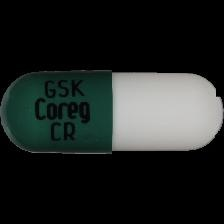68151-5048: (0, 0, 224, 224)
